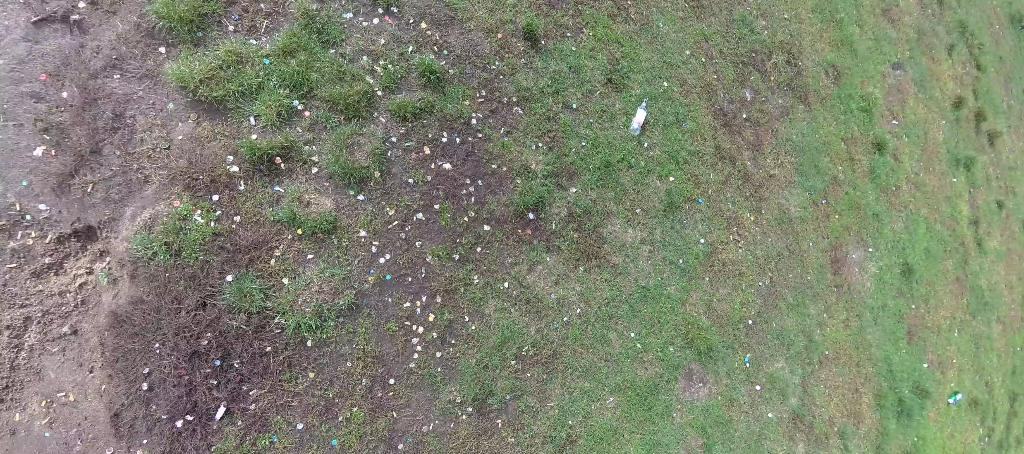garbage: (627, 97, 648, 136)
